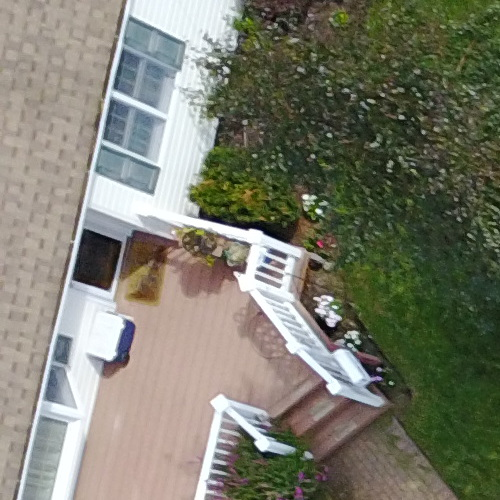flower pot: (174, 220, 227, 262), (218, 233, 249, 268)
